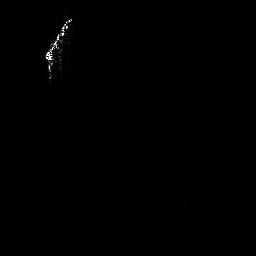ship: (41, 15, 74, 83)
